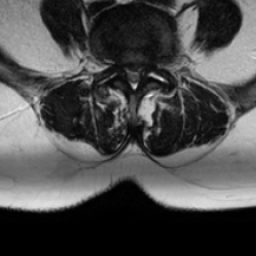CCS_stenosis: (128, 58, 138, 97)
LFS_severe_stenosis: (146, 57, 155, 75)
LLS_severe_stenosis: (138, 60, 146, 79)
RFS_severe_stenosis: (110, 54, 122, 78)
RLS_severe_stenosis: (120, 57, 130, 82)
